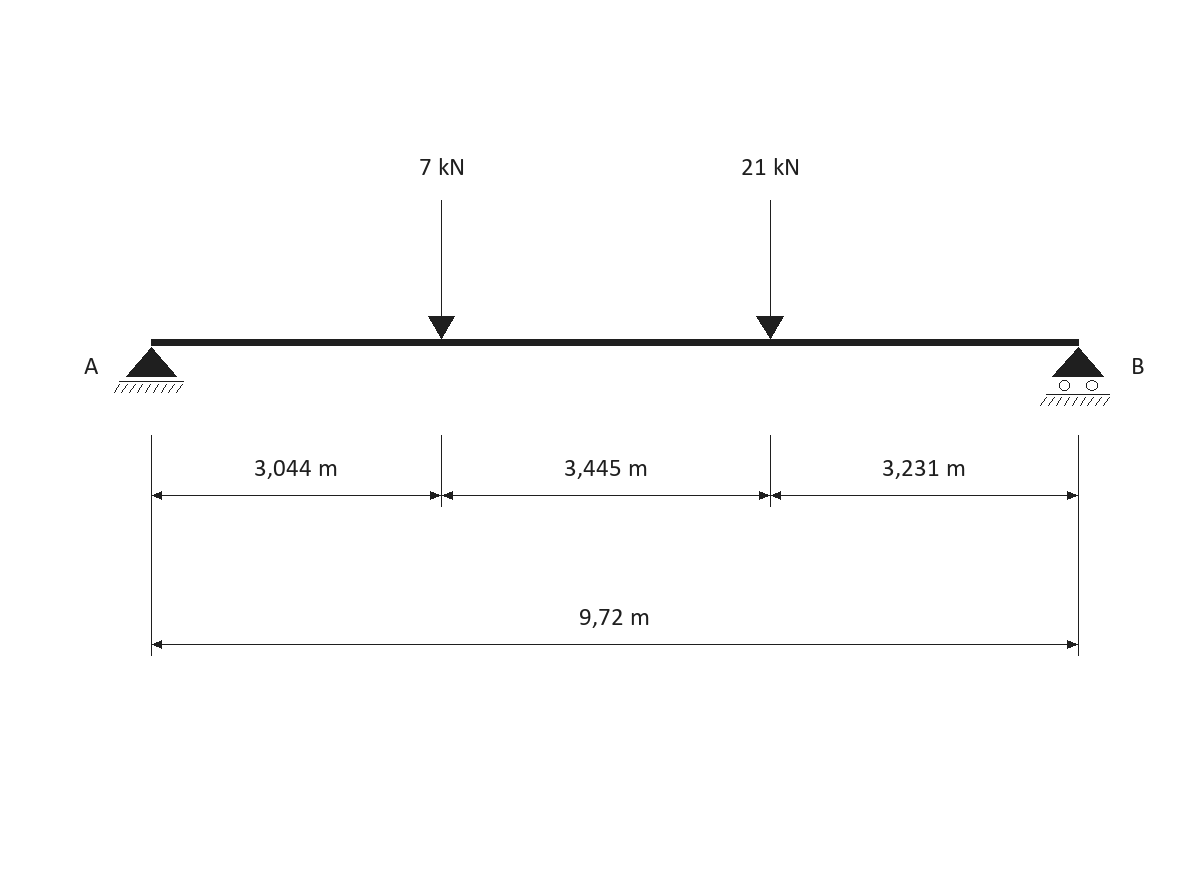pin_support: (114, 347, 184, 393)
point_load: (756, 200, 784, 339), (428, 200, 455, 339)
roller_support: (1040, 347, 1110, 406)
